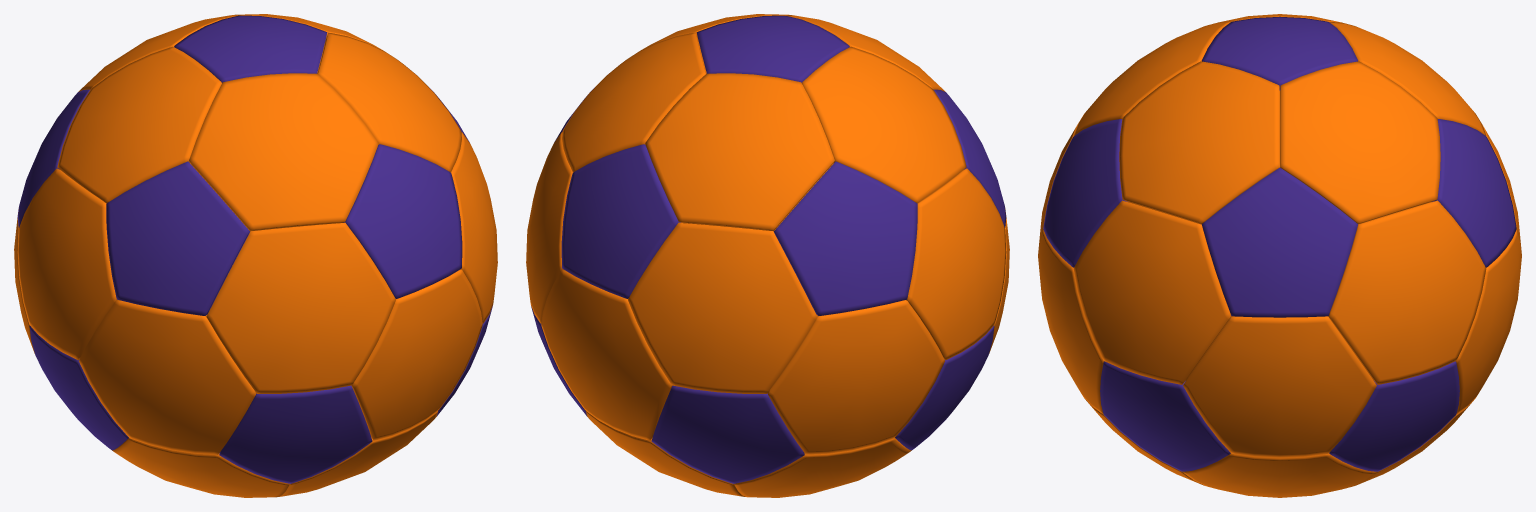
Rendered from football.glb.
The picture shows the model from 3 angles, left to right: view 1: azimuth 30°, elevation 25°; view 2: azimuth 150°, elevation 25°; view 3: azimuth 270°, elevation 25°; orthographic projection.
Parts seen in each view (by area): view 1: FootballBall; view 2: FootballBall; view 3: FootballBall.
Boxes of the visible parts, <box> form: FootballBall: <box>14,14,497,497</box>; FootballBall: <box>526,14,1009,497</box>; FootballBall: <box>1038,14,1521,497</box>.
Bounding box in the file's own units: 0.6863 × 0.6865 × 0.6864.
